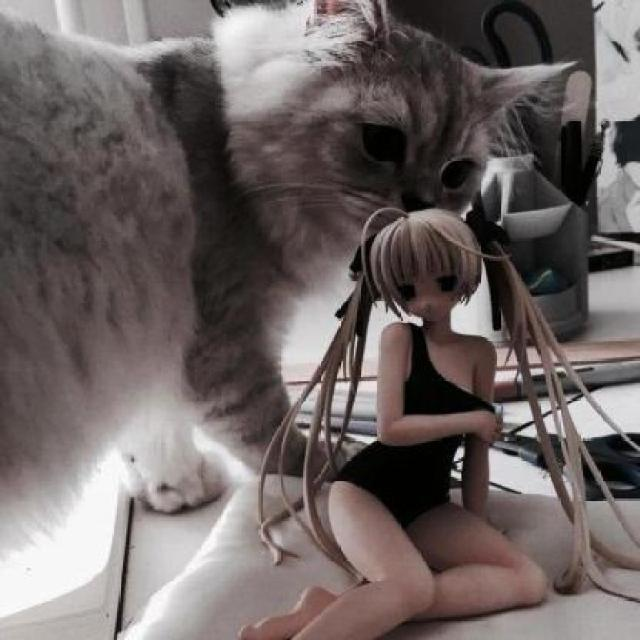cat: (3, 0, 540, 232)
